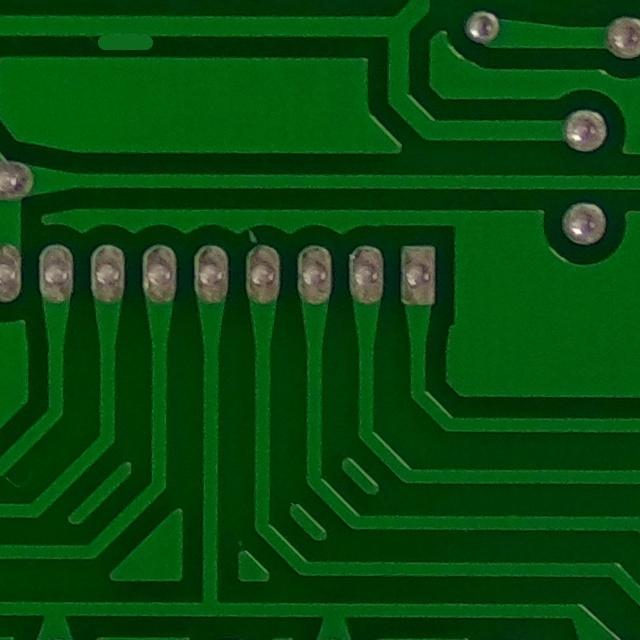spur: (78, 0, 164, 54)
